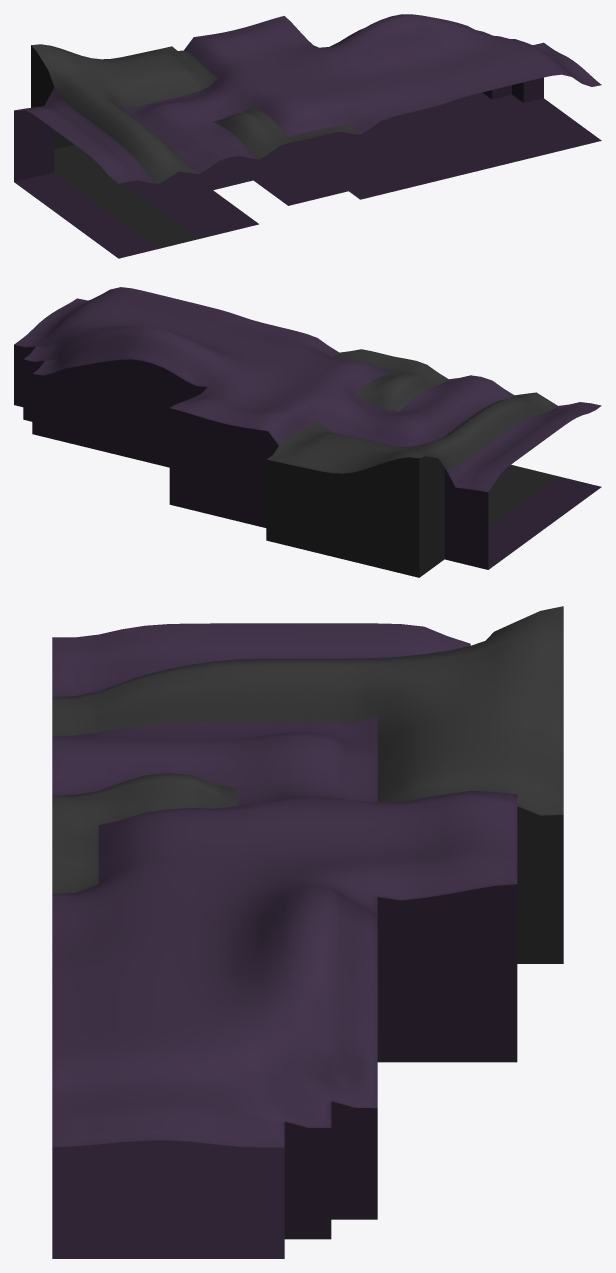
File: delbld-hull-304.glb
The picture shows the model from 3 angles, top to bottom: view 1: azimuth 30°, elevation 25°; view 2: azimuth 150°, elevation 25°; view 3: azimuth 270°, elevation 25°; orthographic projection. The views are drawn at different scales.
Visible parts, largest first — view 1: delbld-hull-304; view 2: delbld-hull-304; view 3: delbld-hull-304.
Part boxes in pixels (x1,y1,x2,y2): delbld-hull-304: (14,14,601,258); delbld-hull-304: (14,287,601,577); delbld-hull-304: (52,606,563,1258).
Size of the model in its own units: 2 by 0.4355 by 0.9167.
2 materials, 2 textured.
